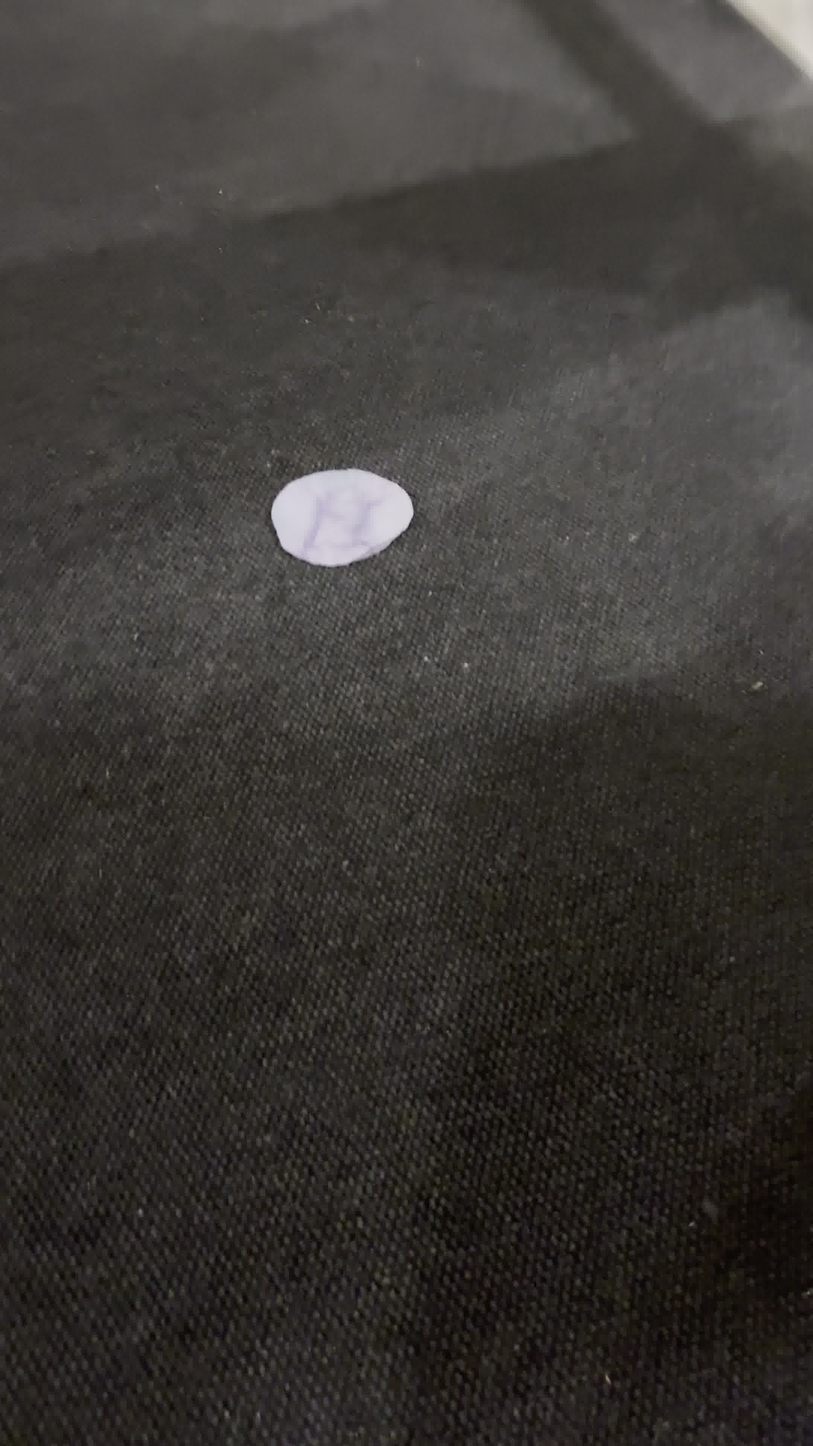Target: (271, 468, 413, 567)
